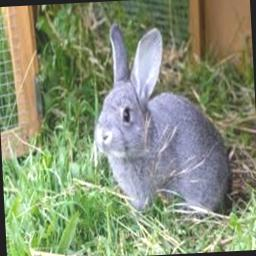rabbit: (94, 23, 229, 212)
